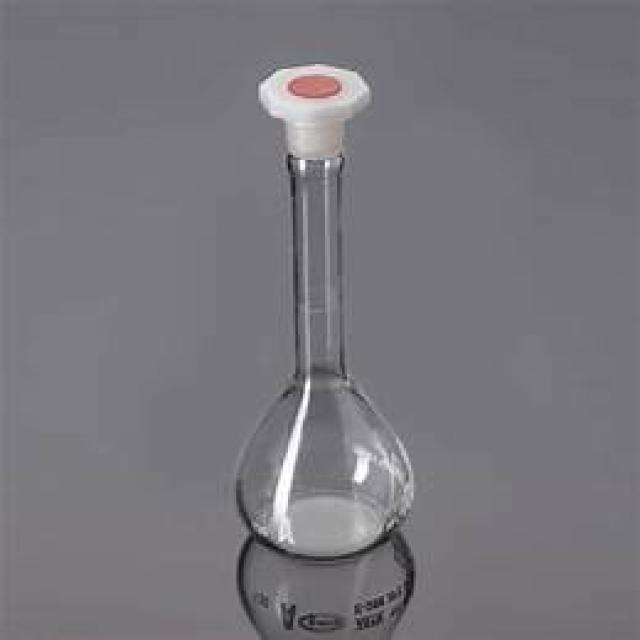Volumetric flask: (212, 49, 434, 565)
